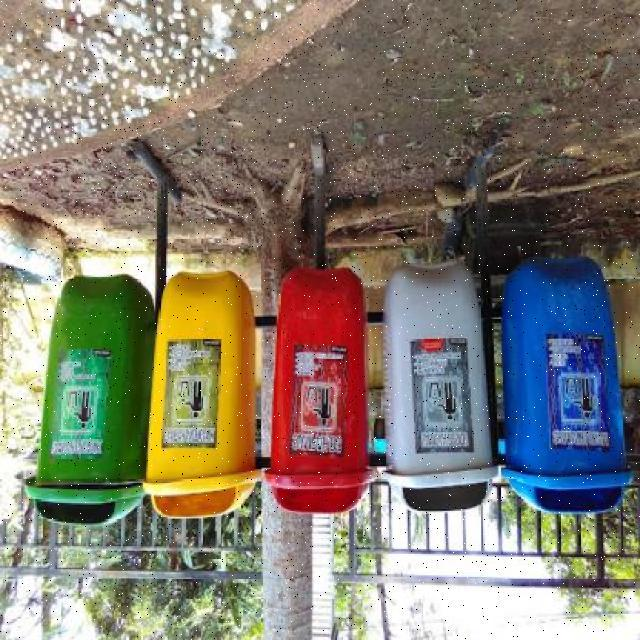garbage container: (499, 237, 639, 539), (376, 237, 501, 530), (22, 268, 153, 536), (264, 249, 387, 523), (149, 256, 266, 535)
